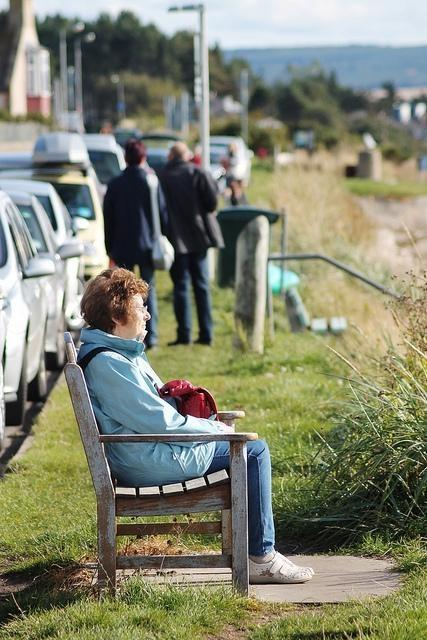car: (1, 176, 90, 343), (3, 192, 73, 372), (3, 190, 57, 414), (14, 168, 109, 282), (0, 147, 104, 200), (82, 132, 127, 195), (208, 136, 257, 190), (139, 132, 193, 172)
